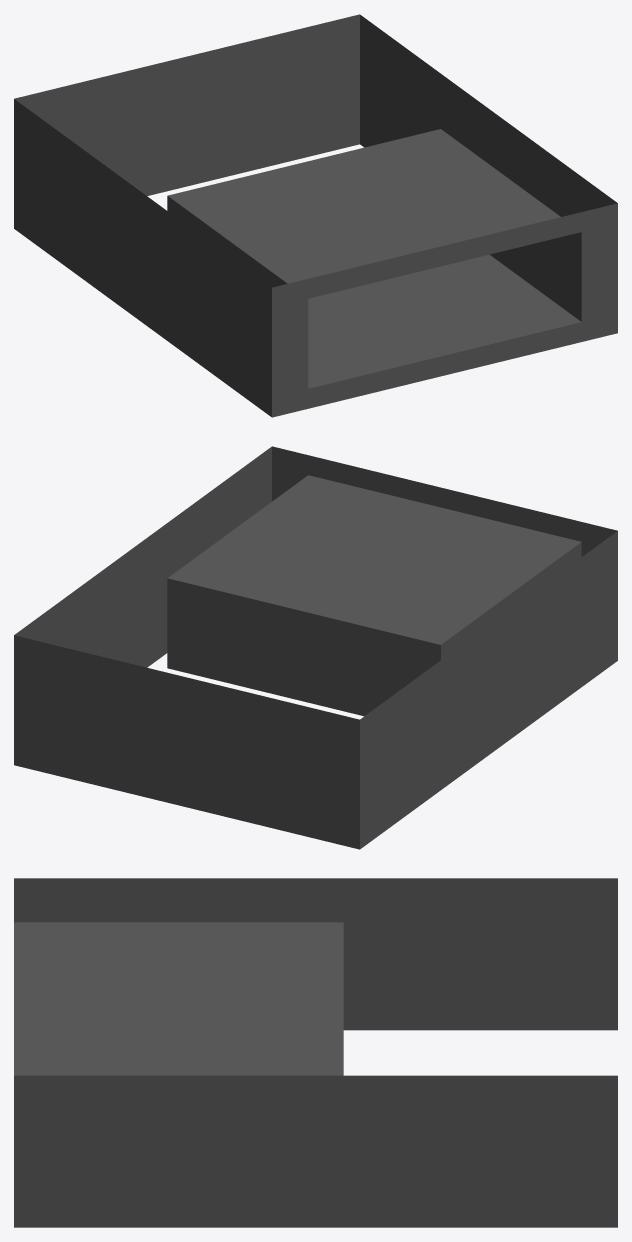
The model's file is Itr_Desk_Drawer_Middle_04.FBX.
3 renders of one model, top to bottom at view 1: azimuth 30°, elevation 25°; view 2: azimuth 150°, elevation 25°; view 3: azimuth 270°, elevation 25°, orthographic. The views are drawn at different scales.
Visible parts, largest first — view 1: Itr_Desk_Drawer_Middle_04; view 2: Itr_Desk_Drawer_Middle_04; view 3: Itr_Desk_Drawer_Middle_04.
Part boxes in pixels (x1,y1,x2,y2): Itr_Desk_Drawer_Middle_04: [14, 14, 617, 417]; Itr_Desk_Drawer_Middle_04: [14, 446, 617, 849]; Itr_Desk_Drawer_Middle_04: [14, 878, 617, 1227].
Size of the model in its own units: 18.22 by 6.54 by 23.55.
